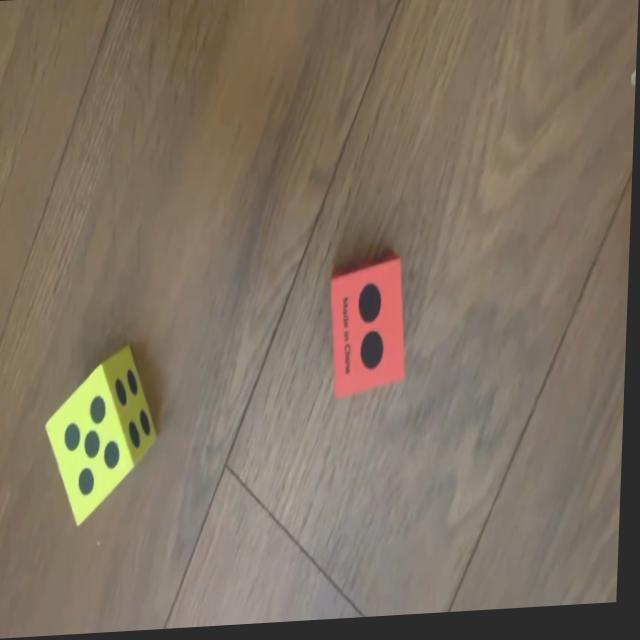cube: (327, 259, 412, 405)
